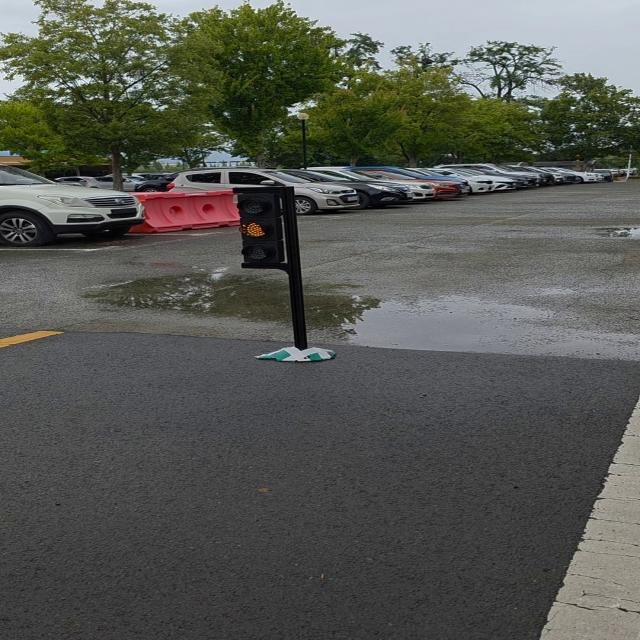yellow: (235, 185, 295, 265)
